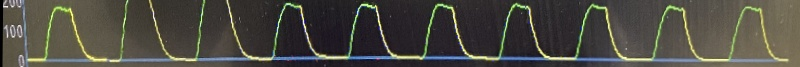normal_volume: (24, 0, 795, 67)
